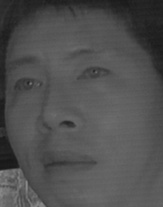eye: (76, 61, 112, 87), (10, 74, 46, 96)
mouth: (41, 146, 97, 179)
